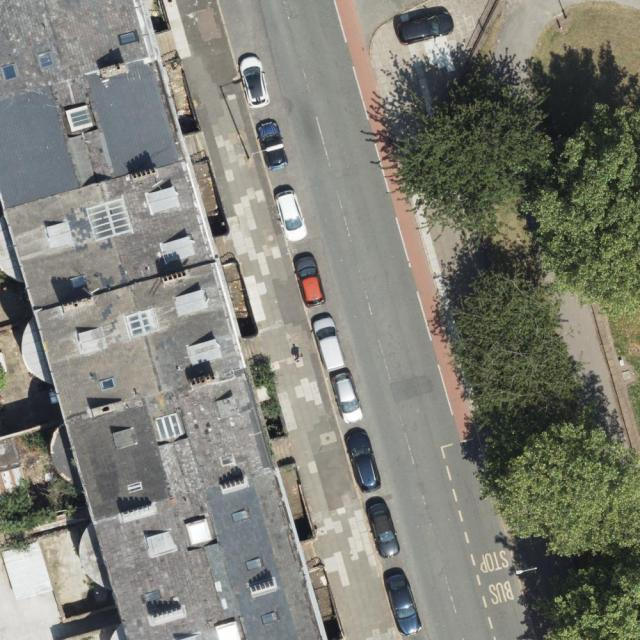roof: (0, 0, 329, 640)
skylight: (83, 196, 133, 242), (124, 305, 161, 339), (66, 102, 96, 133), (152, 412, 184, 441), (36, 49, 55, 70), (1, 63, 20, 83), (229, 508, 249, 524), (118, 30, 137, 46), (245, 557, 264, 573), (126, 479, 143, 495), (71, 273, 89, 288), (259, 610, 277, 625), (99, 377, 116, 392), (218, 454, 235, 468), (145, 588, 161, 602)
